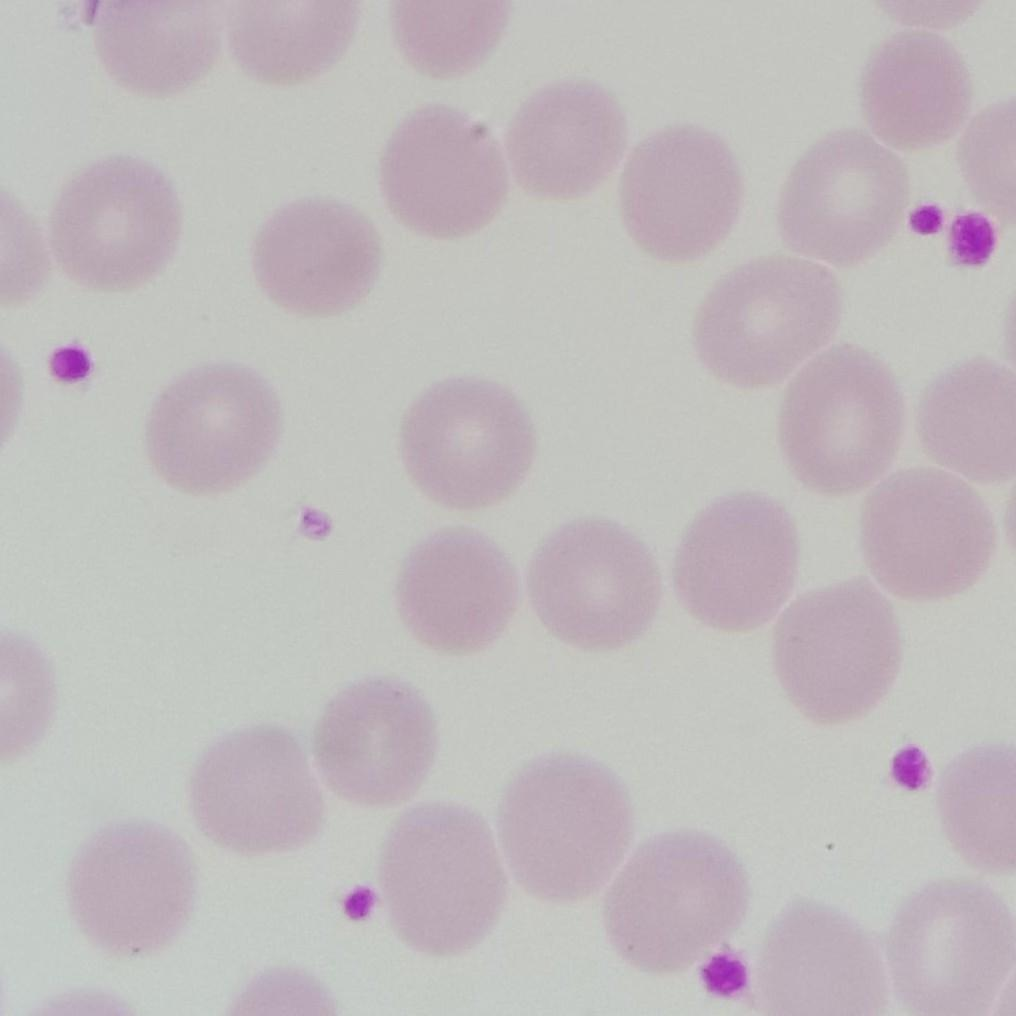Uninfected: (40, 606, 184, 752), (113, 500, 262, 634), (627, 694, 765, 838), (61, 381, 212, 507), (516, 145, 655, 281), (294, 774, 438, 901), (523, 778, 670, 901), (504, 400, 639, 532), (364, 532, 501, 661), (383, 675, 521, 801), (413, 863, 546, 993), (61, 67, 198, 193), (161, 190, 293, 319), (723, 50, 856, 178), (749, 779, 882, 906), (756, 621, 890, 744), (778, 382, 908, 507), (0, 889, 132, 1012), (362, 396, 492, 516), (208, 314, 338, 434), (0, 754, 114, 886), (700, 254, 817, 378), (816, 509, 931, 626), (863, 860, 977, 969), (920, 90, 1016, 219), (531, 918, 655, 1013)
